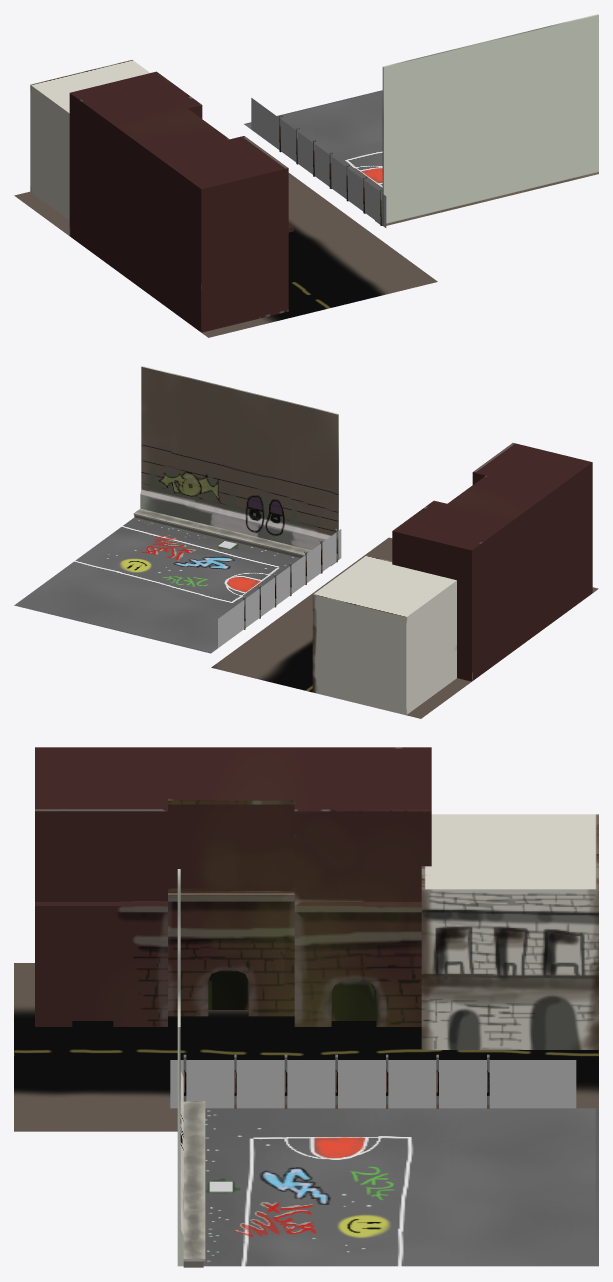
File: level1.fbx
3 renders of one model, top to bottom at view 1: azimuth 30°, elevation 25°; view 2: azimuth 150°, elevation 25°; view 3: azimuth 270°, elevation 25°, orthographic. The views are drawn at different scales.
Visible parts, largest first — view 1: Building, Wall, Street, Cube, Floor, Fence, Fence Pole; view 2: Building, Wall, Floor, Cube, Street, Fence, Seats, Fence Pole; view 3: Building, Floor, Cube, Street, Fence, Seats, Wall, Fence Pole.
Boxes of the visible parts, x1,y1,x2,y2 form: Building: (69,71,293,332); Wall: (381,14,598,226); Street: (14,173,437,337); Cube: (30,60,149,219); Floor: (244,90,382,191); Fence: (251,98,386,227); Fence Pole: (278,115,382,225); Building: (392,443,592,681); Wall: (140,366,338,560); Floor: (14,517,300,653); Cube: (312,555,456,715); Street: (211,537,598,718); Fence: (218,529,341,647); Seats: (133,508,336,565); Fence Pole: (243,529,338,629); Building: (35,747,431,1026); Floor: (203,1108,598,1266); Cube: (421,814,598,1049); Street: (14,963,598,1131); Fence: (170,1060,576,1108); Seats: (183,1101,205,1267); Wall: (177,869,183,1266); Fence Pole: (183,1054,489,1108).
Bounding box in the file's own units: 3720 × 1396 × 2817.
